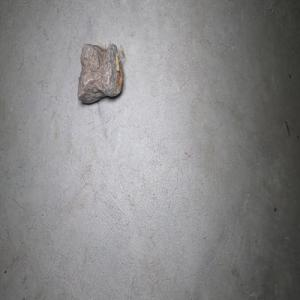Rock: (77, 43, 124, 103)
